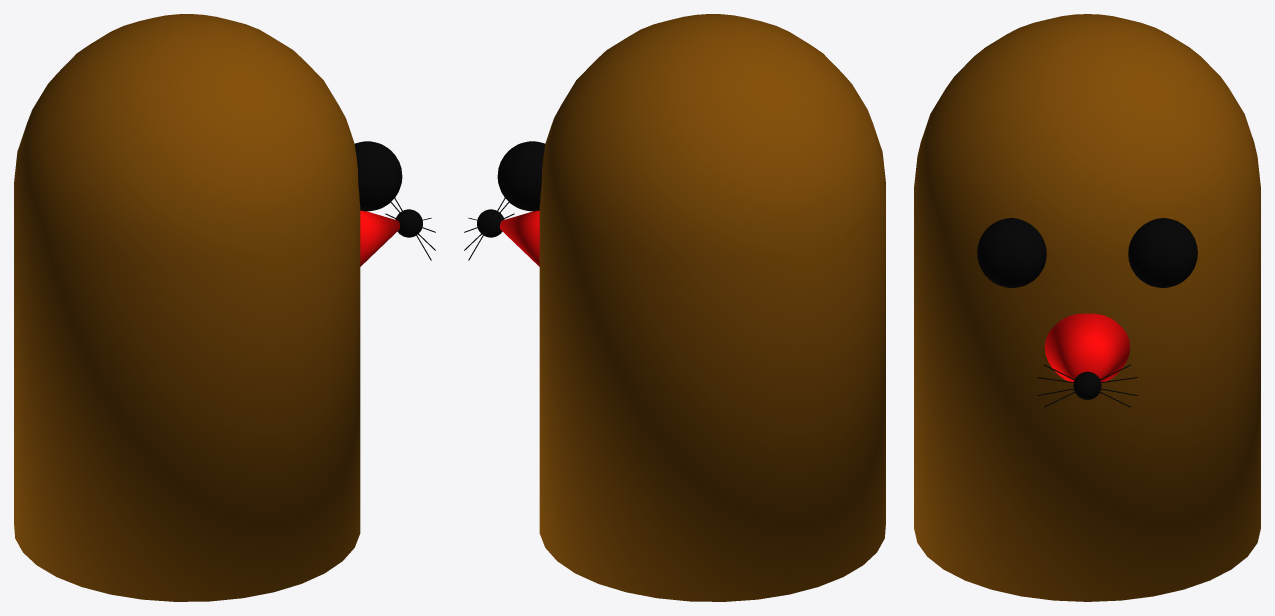
Rendered from mogura.fbx.
3 views of the same model, side by side, from view 1: azimuth 30°, elevation 25°; view 2: azimuth 150°, elevation 25°; view 3: azimuth 270°, elevation 25° (orthographic).
Visible parts, largest first — view 1: 球, 球.001, 円錐, 球.002; view 2: 球, 球.001, 円錐, 球.002; view 3: 球, 球.001, 円錐, 球.002.
Part boxes in pixels (x1=…): 球: x1=14, y1=14, x2=360, y2=601; 球.001: x1=355, y1=141, x2=402, y2=211; 円錐: x1=360, y1=210, x2=400, y2=266; 球.002: x1=395, y1=209, x2=422, y2=237; 球: x1=539, y1=14, x2=885, y2=601; 球.001: x1=497, y1=141, x2=544, y2=211; 円錐: x1=499, y1=210, x2=539, y2=266; 球.002: x1=477, y1=209, x2=504, y2=237; 球: x1=914, y1=14, x2=1260, y2=601; 球.001: x1=977, y1=218, x2=1197, y2=287; 円錐: x1=1044, y1=313, x2=1130, y2=383; 球.002: x1=1073, y1=371, x2=1101, y2=399.
Bounding box in the file's own units: 40 × 51.16 × 63.45.
